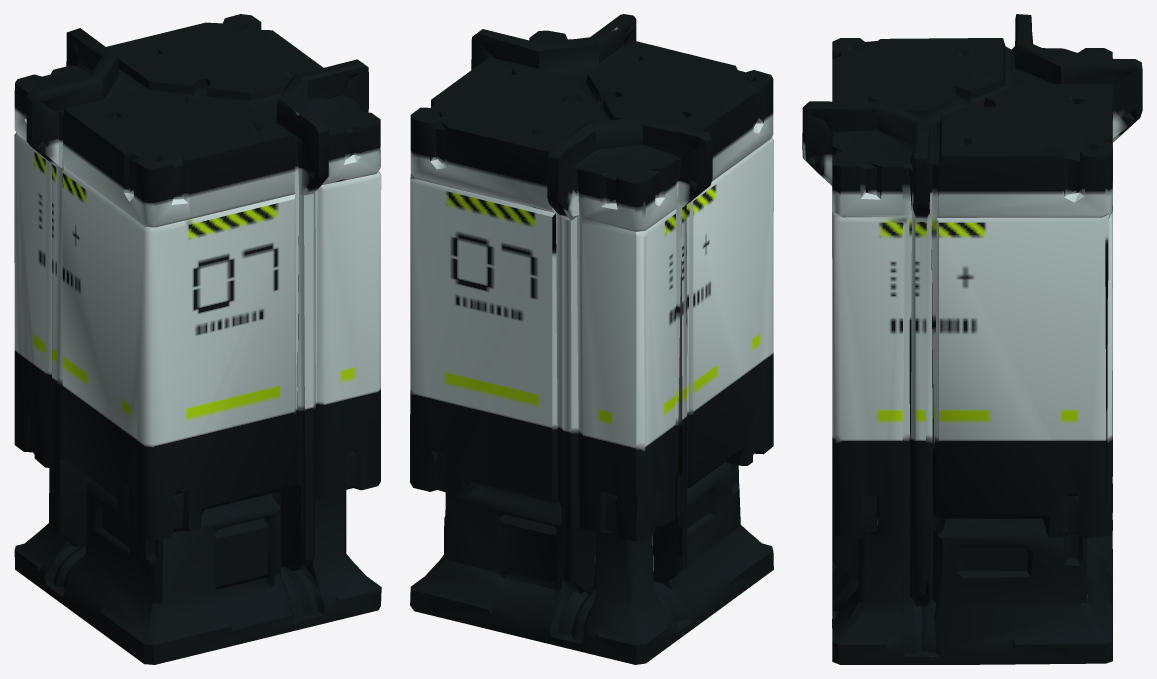
File: castle-far.glb
The picture shows the model from 3 angles, left to right: view 1: azimuth 30°, elevation 25°; view 2: azimuth 150°, elevation 25°; view 3: azimuth 270°, elevation 25°; orthographic projection. The views are drawn at different scales.
Parts seen in each view (by area): view 1: castle; view 2: castle; view 3: castle.
Part boxes in pixels (x1,y1,x2,y2): castle: (14,14,381,664); castle: (410,14,773,664); castle: (802,14,1142,664).
Bounding box in the file's own units: 60.62 × 103 × 60.61.
1 material, 1 textured.
